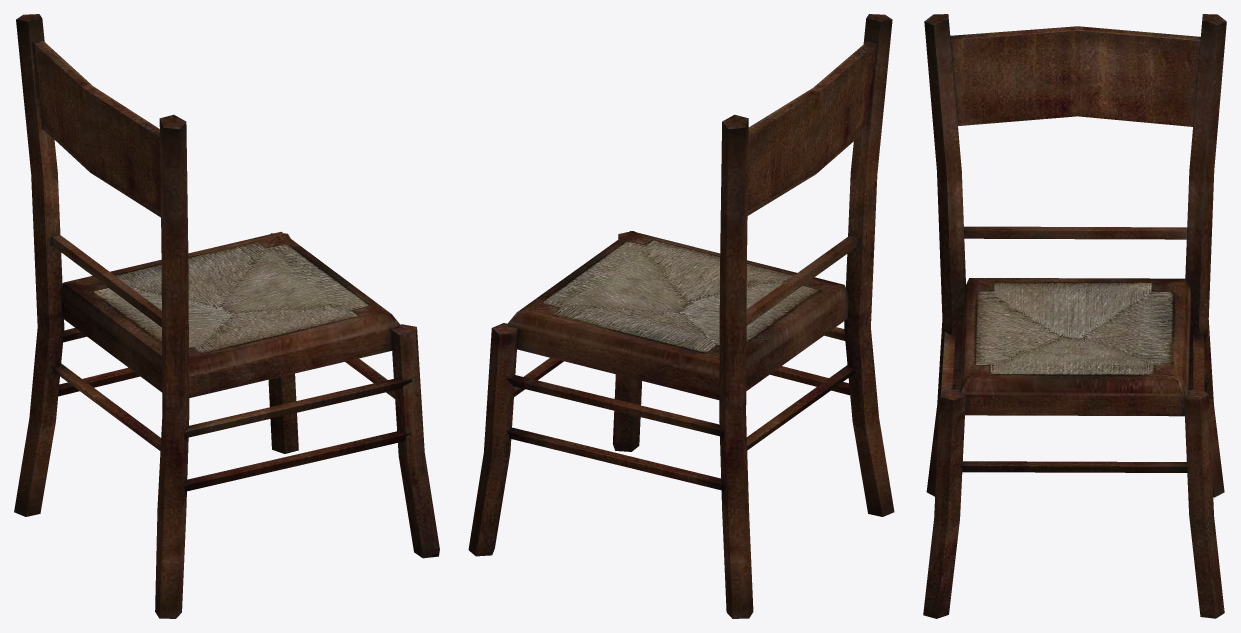
File: furniturechair001a.glb
The picture shows the model from 3 angles, left to right: view 1: azimuth 30°, elevation 25°; view 2: azimuth 150°, elevation 25°; view 3: azimuth 270°, elevation 25°; orthographic projection. The views are drawn at different scales.
Parts seen in each view (by area): view 1: 0_FurnitureChair001a; view 2: 0_FurnitureChair001a; view 3: 0_FurnitureChair001a.
Part boxes in pixels (x1=…): 0_FurnitureChair001a: x1=14, y1=14, x2=439, y2=618; 0_FurnitureChair001a: x1=468, y1=14, x2=894, y2=618; 0_FurnitureChair001a: x1=923, y1=14, x2=1226, y2=618.
Bounding box in the file's own units: 0.517 × 0.8619 × 0.4983.
1 material, 1 textured.
